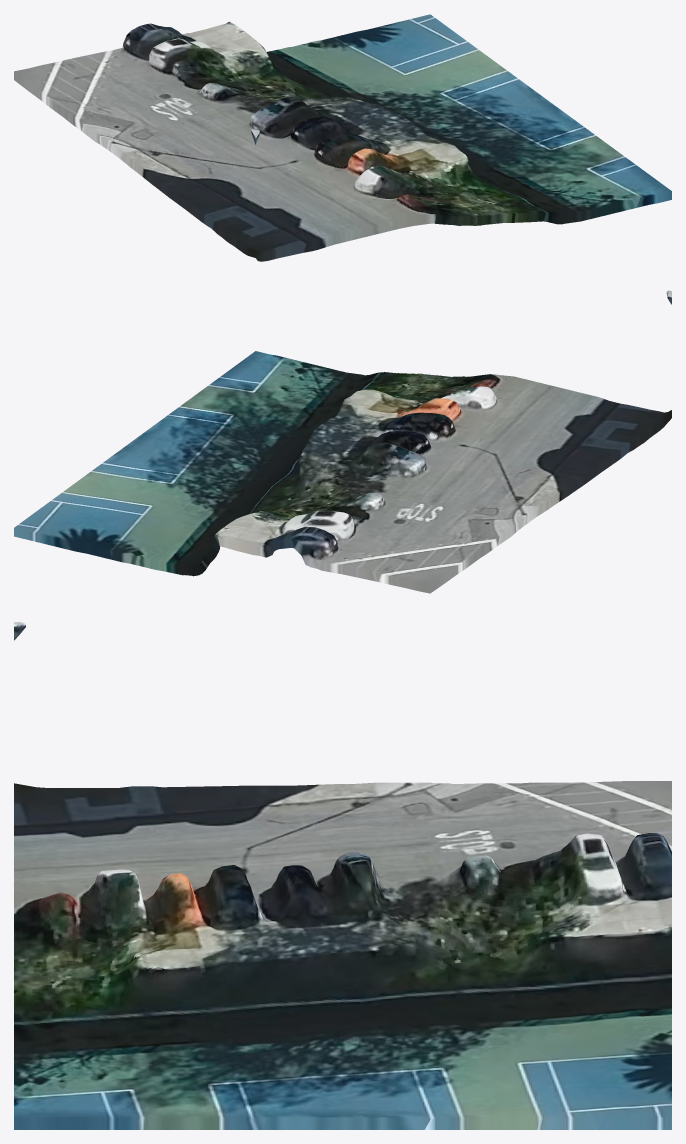
File: z20-167736-405196-h0-yup-uvflip-v3-world.glb
3 renders of one model, top to bottom at view 1: azimuth 30°, elevation 25°; view 2: azimuth 150°, elevation 25°; view 3: azimuth 270°, elevation 25°, orthographic. The views are drawn at different scales.
Size of the model in its own units: 30.16 by 11.76 by 30.32.
Materials: 1 (1 with a texture image).
